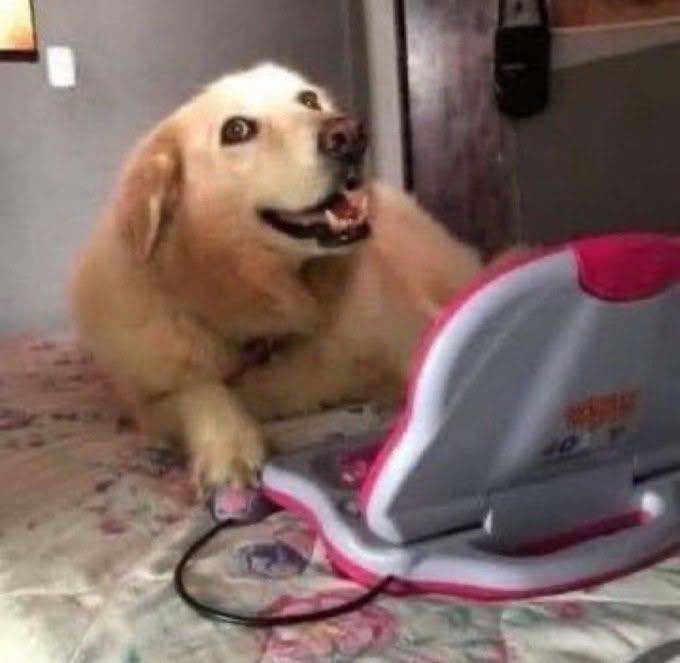adult_dog: (67, 64, 489, 494)
